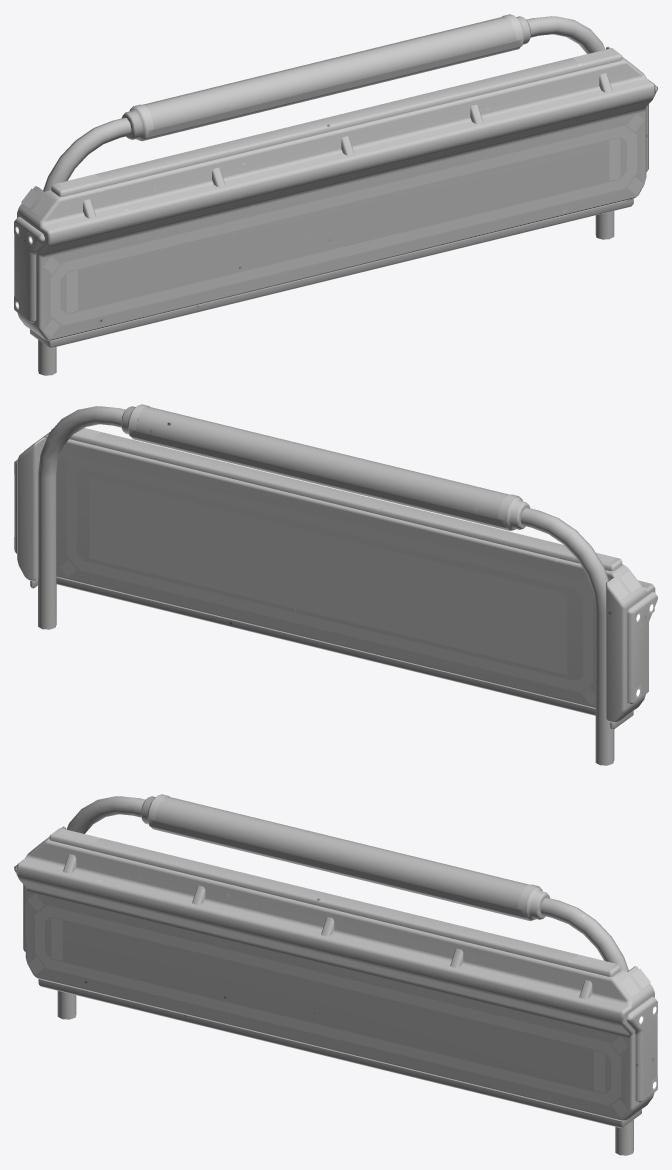
Rendered from SM_Fence_1_Merged.fbx.
3 renders of one model, top to bottom at view 1: azimuth 30°, elevation 25°; view 2: azimuth 150°, elevation 25°; view 3: azimuth 330°, elevation 25°, orthographic.
Visible parts, largest first — view 1: SM_Fence_1_Merged_LOD0; view 2: SM_Fence_1_Merged_LOD0; view 3: SM_Fence_1_Merged_LOD0.
Part boxes in pixels (<box>): SM_Fence_1_Merged_LOD0: <box>14,14,657,375</box>; SM_Fence_1_Merged_LOD0: <box>14,404,657,765</box>; SM_Fence_1_Merged_LOD0: <box>14,794,657,1155</box>.
Bounding box in the file's own units: 200 × 19.87 × 74.44.
